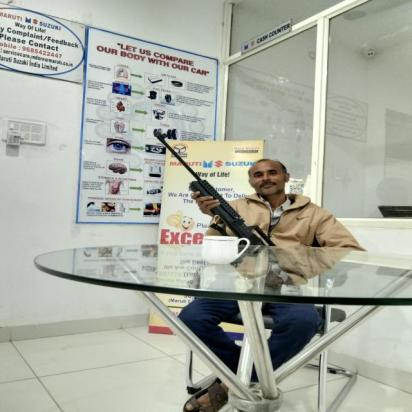Gun: (155, 132, 279, 247)
